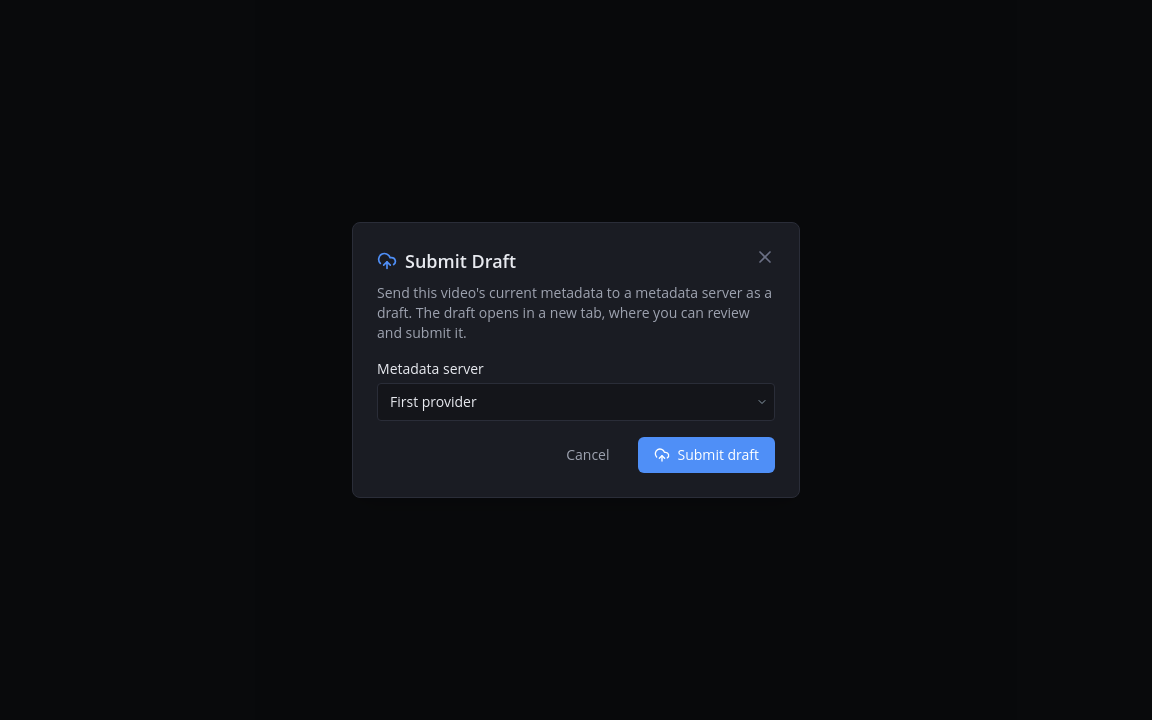
Scenario: MetadataServerDraftDialog › submits to the chosen server, opens the draft in the pre-opened tab, and links to it
Select "Second provider" in the dropdown labelled "Metadata server" at (576, 402), box [377,383,775,421]
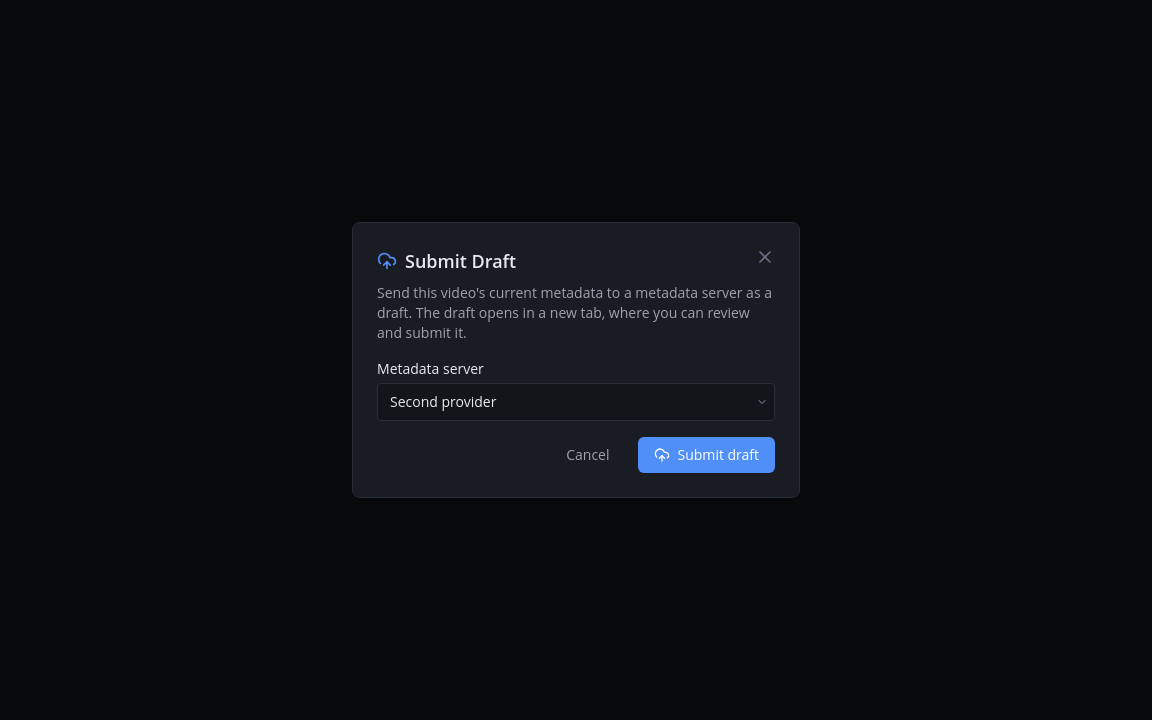
Click the button "Submit draft" at (706, 455), box [638,437,775,473]
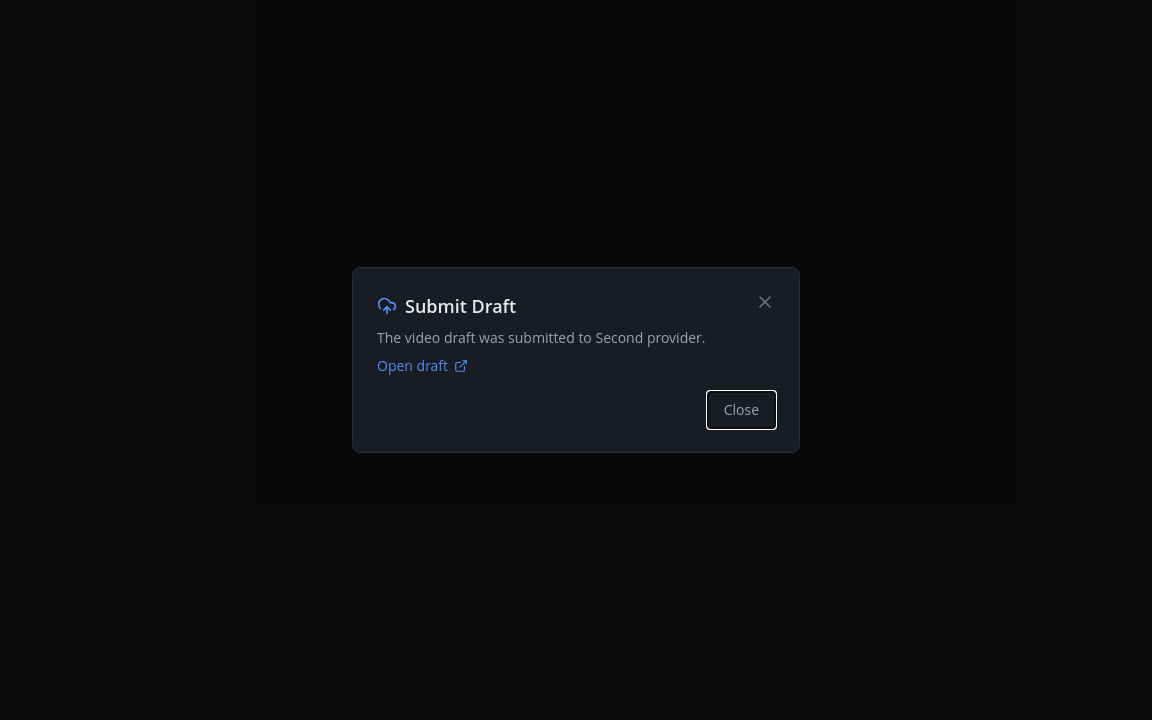
expect the message shows "The video draft was submitted to Second provider.": met, box [377,328,706,375]
